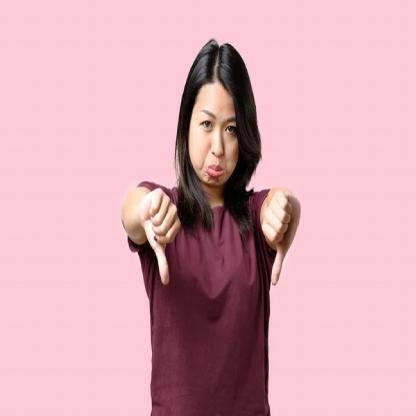thumb_down: (258, 179, 302, 288), (139, 182, 182, 291)
